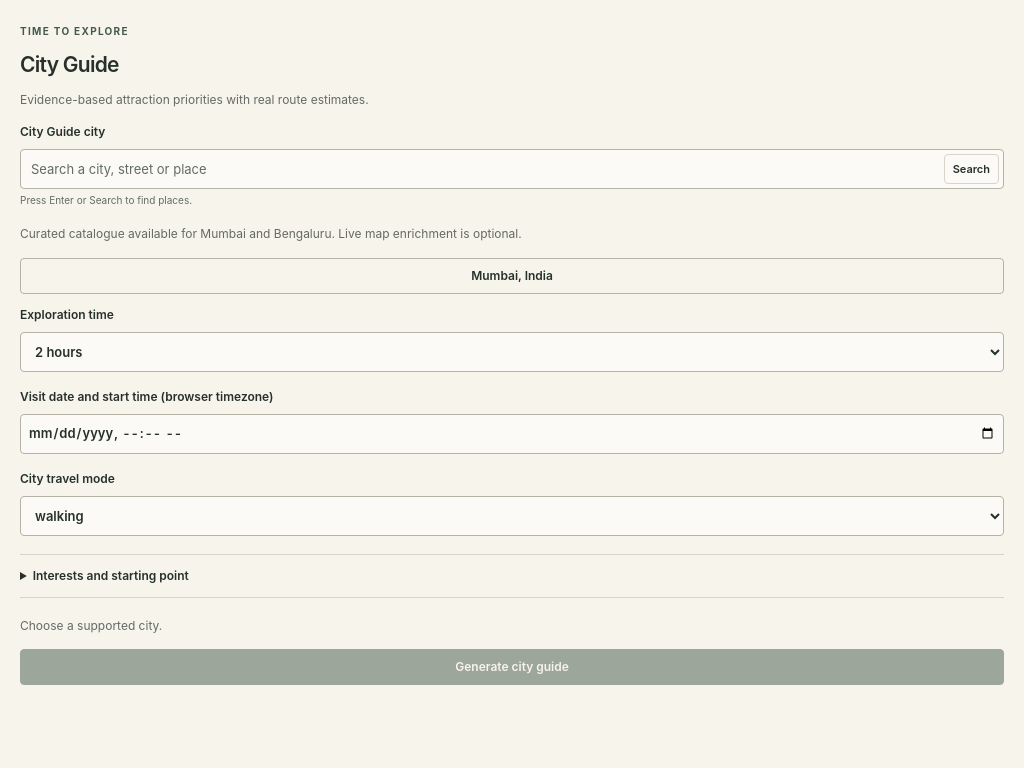
Test: reports provider failure without manufacturing attractions and retains the selected city
This screenshot has width=1024, height=768.
Click the button "Mumbai, India": (512, 276) [20,258,1004,294]
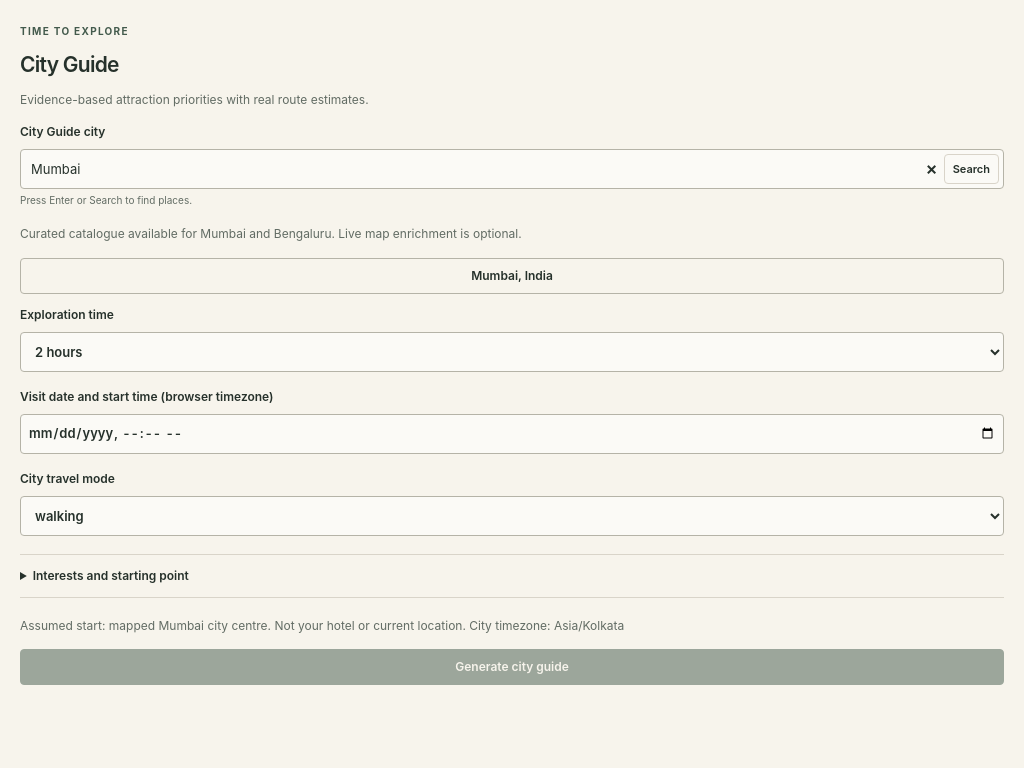
In the field labelled "Visit date and start time (browser timezone)": (512, 434) [20,414,1004,454], type "2026-11-01T09:00"
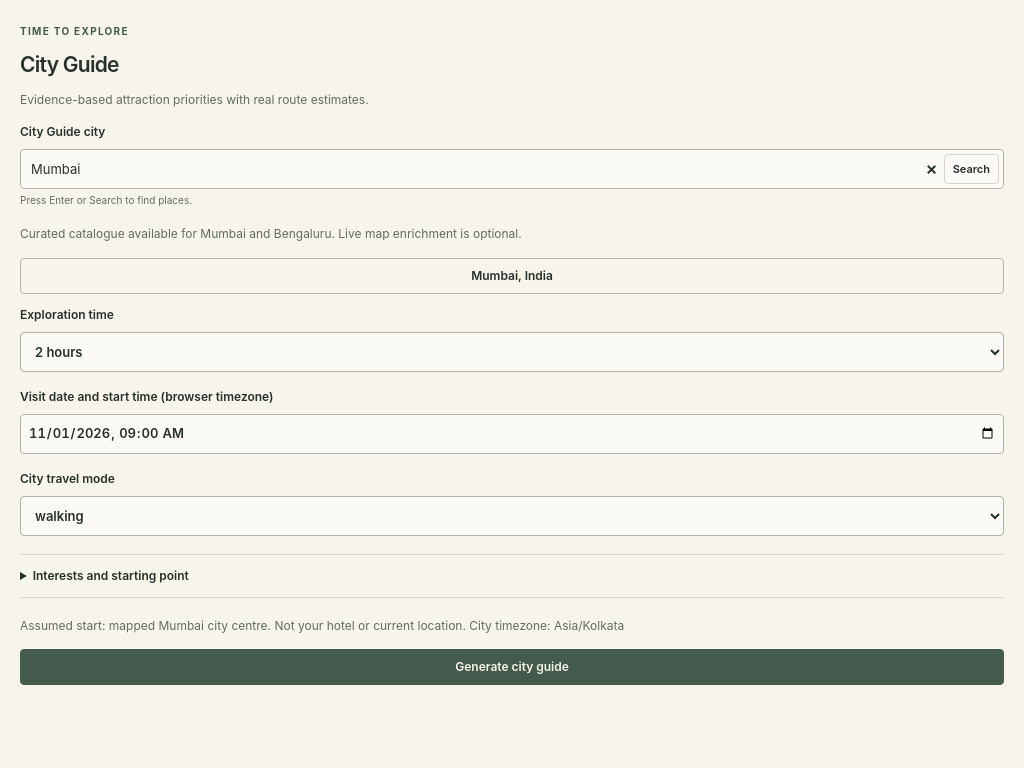
Click the button "Generate city guide": (512, 667) [20,649,1004,685]
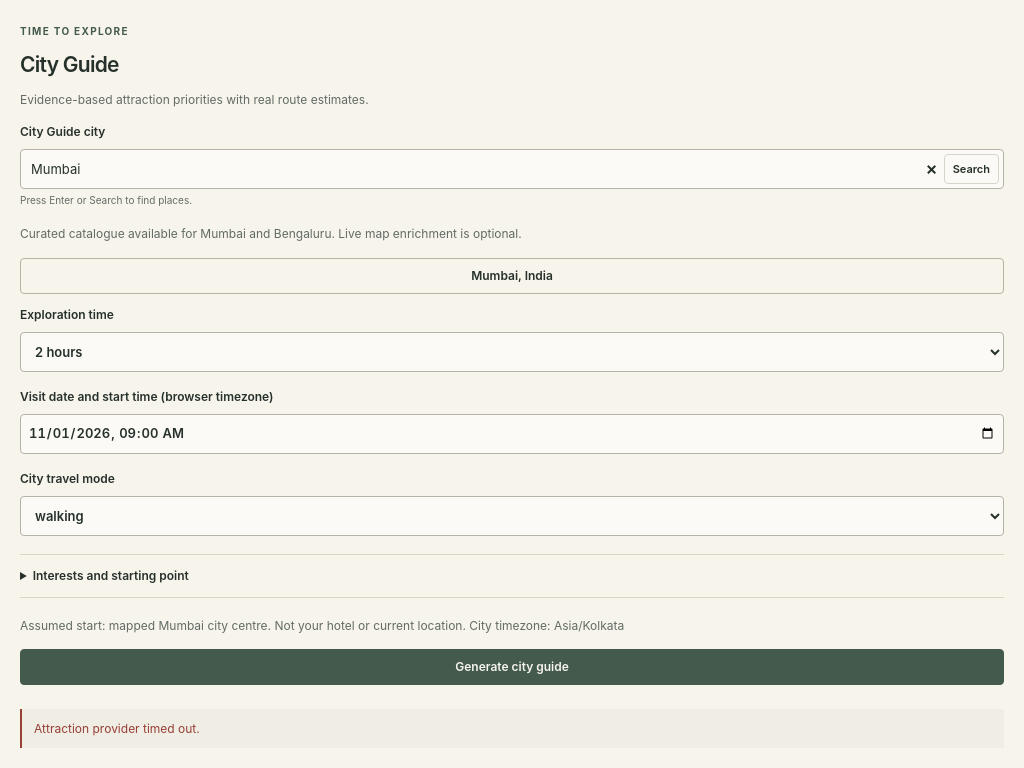
Check: the dropdown labelled "City Guide city" holds "Mumbai", box [21,150,920,188]
Check: the message shows "timed out", box [34,721,200,736]
